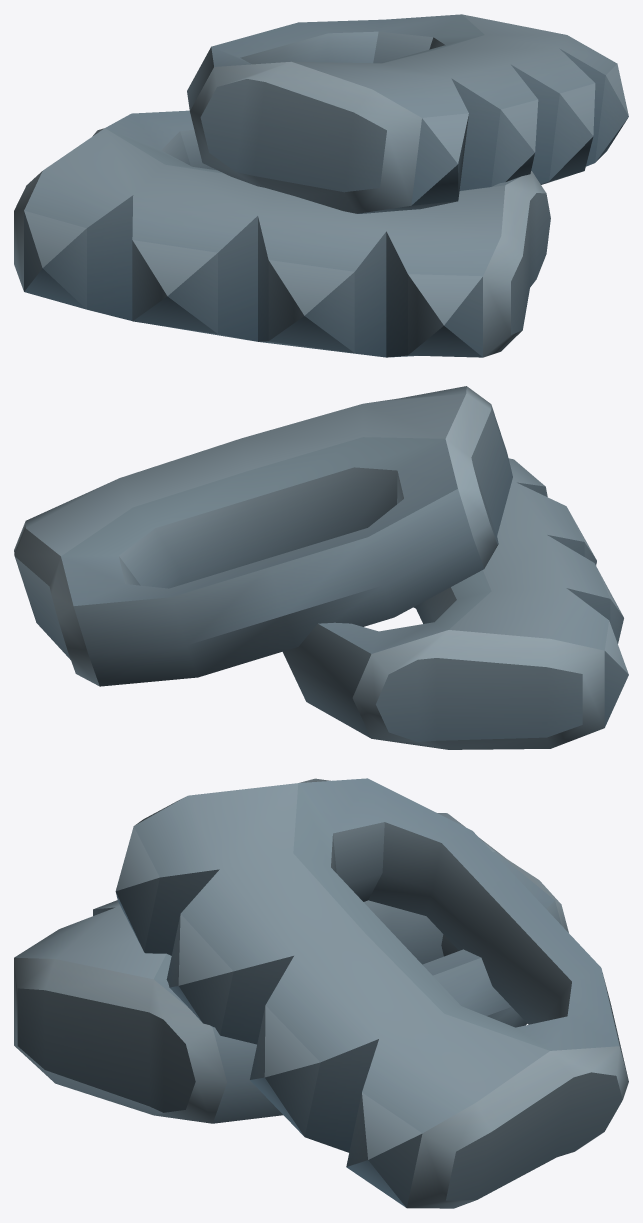
File: fistweapon_A_stacked.fbx
3 views of the same model, one above another, from view 1: azimuth 30°, elevation 25°; view 2: azimuth 150°, elevation 25°; view 3: azimuth 270°, elevation 25° (orthographic). The views are drawn at different scales.
Parts seen in each view (by area): view 1: fistweapon_A_stacked; view 2: fistweapon_A_stacked; view 3: fistweapon_A_stacked.
Part boxes in pixels (box(x1,y1,x2,y2)): fistweapon_A_stacked: box(14, 14, 628, 357); fistweapon_A_stacked: box(14, 386, 628, 749); fistweapon_A_stacked: box(14, 778, 628, 1208).
Size of the model in its own units: 43 by 16.27 by 35.12.
